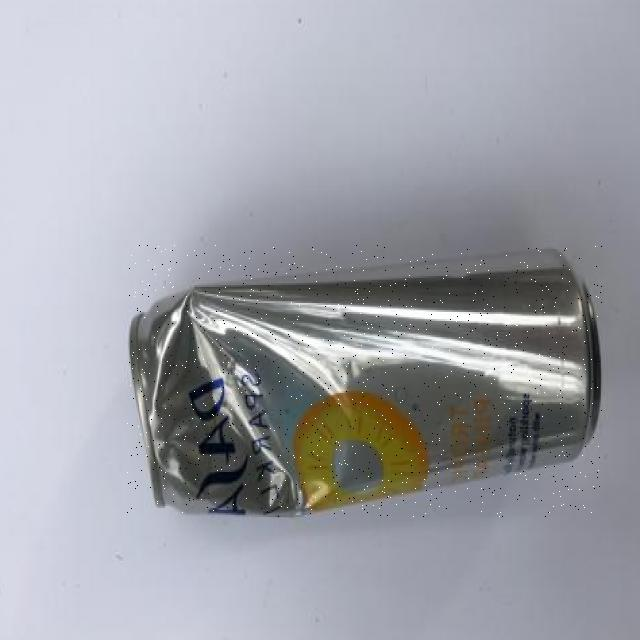metal: (127, 245, 602, 516)
